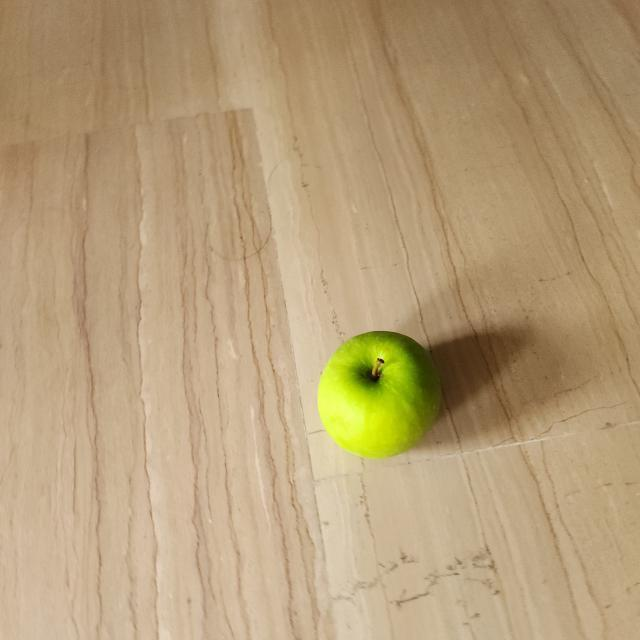apple: (313, 328, 452, 467)
